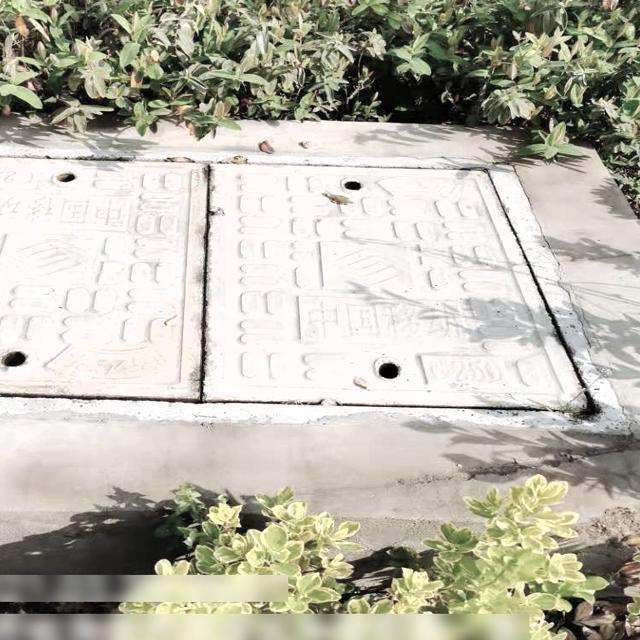good: (0, 139, 627, 435)
